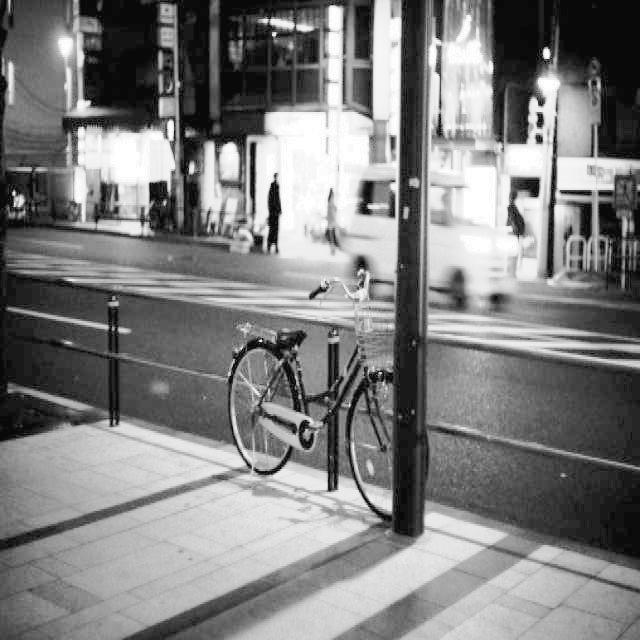Bicycle: (221, 253, 436, 552)
